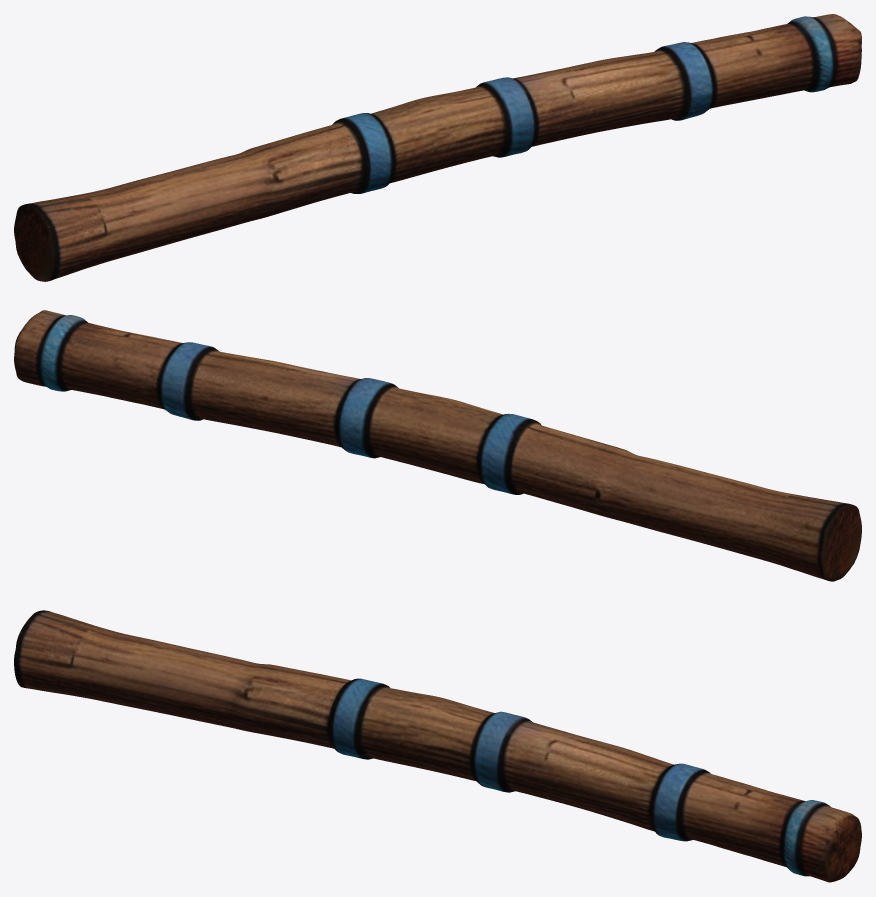
File: source-58.glb
The picture shows the model from 3 angles, top to bottom: view 1: azimuth 30°, elevation 25°; view 2: azimuth 150°, elevation 25°; view 3: azimuth 330°, elevation 25°; orthographic projection.
Visible parts, largest first — view 1: tmpye5vmhaz.ply; view 2: tmpye5vmhaz.ply; view 3: tmpye5vmhaz.ply.
Part boxes in pixels (left/top/right/bottom): tmpye5vmhaz.ply: left=14, top=14, right=861, bottom=281; tmpye5vmhaz.ply: left=14, top=310, right=861, bottom=581; tmpye5vmhaz.ply: left=14, top=610, right=861, bottom=882.
Size of the model in its own units: 1.96 by 0.186 by 0.1693.
Materials: 1 (1 with a texture image).
